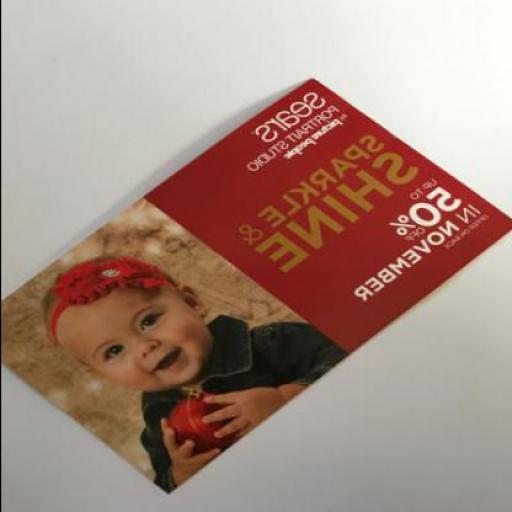paper: (1, 80, 511, 494)
